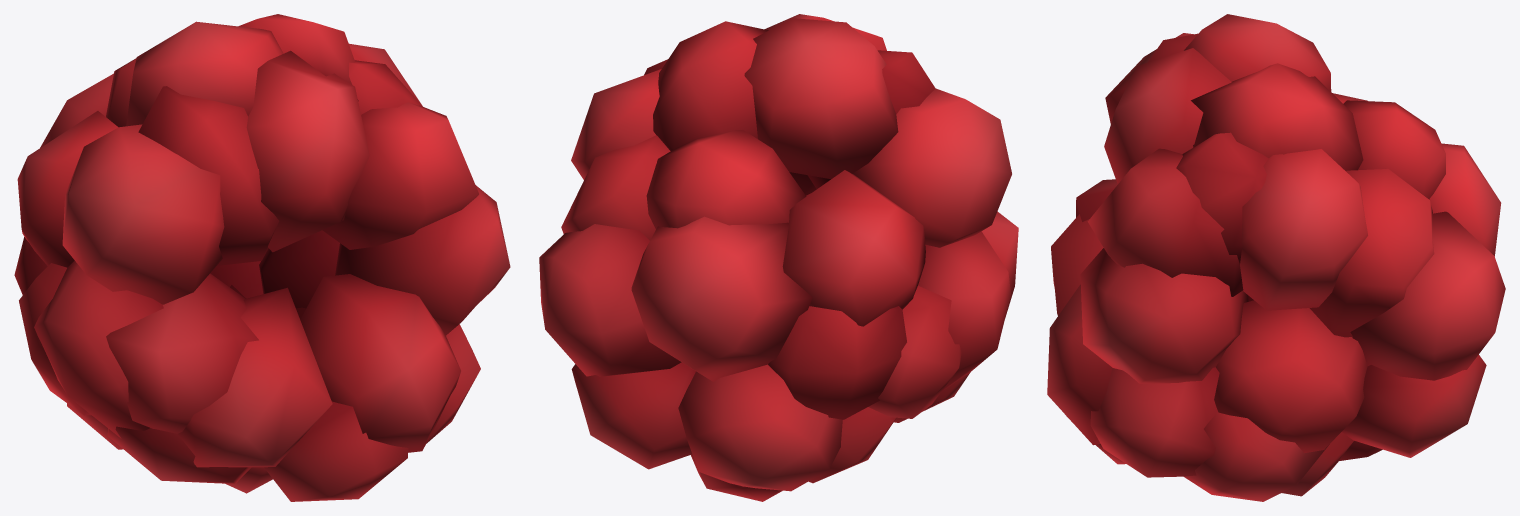
File: consumables-fruits-raspberry_v1.glb
3 views of the same model, side by side, from view 1: azimuth 30°, elevation 25°; view 2: azimuth 150°, elevation 25°; view 3: azimuth 270°, elevation 25° (orthographic). The views are drawn at different scales.
Visible parts, largest first — view 1: Raspberry.001; view 2: Raspberry.001; view 3: Raspberry.001.
Boxes of the visible parts, x1,y1,x2,y2 form: Raspberry.001: [14, 14, 510, 501]; Raspberry.001: [539, 14, 1018, 501]; Raspberry.001: [1047, 14, 1505, 501].
Size of the model in its own units: 0.048 by 0.0525 by 0.0493.
